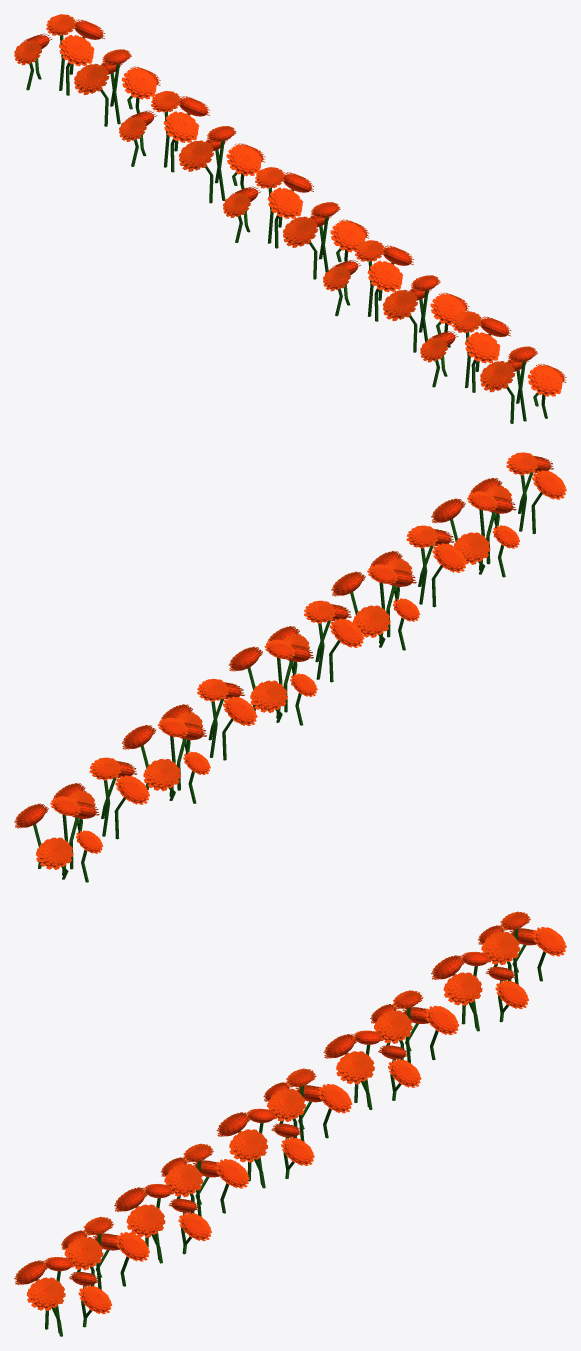
The model's file is florMontana.obj.
The picture shows the model from 3 angles, top to bottom: view 1: azimuth 30°, elevation 25°; view 2: azimuth 150°, elevation 25°; view 3: azimuth 330°, elevation 25°; orthographic projection. The views are drawn at different scales.
Parts seen in each view (by area): view 1: Plano.515, Plano.517, Plano.524, Plano.522, Plano.520, Plano.519, Plano.523, Plano.521, Plano.518, Plano.516; view 2: Plano.524, Plano.520, Plano.522, Plano.517, Plano.515, Plano.518, Plano.519, Plano.523, Plano.516, Plano.521; view 3: Plano.521, Plano.523, Plano.518, Plano.519, Plano.516, Plano.520, Plano.517, Plano.524, Plano.515, Plano.522.
Boxes of the visible parts, <box> form: Plano.515: <box>420,311,511,392</box>; Plano.517: <box>323,240,413,321</box>; Plano.524: <box>14,14,105,95</box>; Plano.522: <box>119,91,209,172</box>; Plano.520: <box>223,167,314,248</box>; Plano.519: <box>480,346,566,423</box>; Plano.523: <box>74,49,160,126</box>; Plano.521: <box>179,126,265,203</box>; Plano.518: <box>283,202,369,279</box>; Plano.516: <box>383,275,469,352</box>; Plano.524: <box>14,796,103,882</box>; Plano.520: <box>228,639,317,725</box>; Plano.522: <box>121,717,210,803</box>; Plano.517: <box>331,564,420,650</box>; Plano.515: <box>431,491,519,577</box>; Plano.518: <box>267,600,364,685</box>; Plano.519: <box>469,452,566,536</box>; Plano.523: <box>53,757,149,841</box>; Plano.516: <box>370,525,466,609</box>; Plano.521: <box>160,679,257,762</box>; Plano.521: <box>323,1030,421,1109</box>; Plano.523: <box>431,952,528,1031</box>; Plano.518: <box>216,1108,314,1188</box>; Plano.519: <box>14,1257,111,1336</box>; Plano.516: <box>114,1184,211,1263</box>; Plano.520: <box>263,1068,352,1141</box>; Plano.517: <box>161,1143,249,1216</box>; Plano.524: <box>478,911,566,984</box>; Plano.515: <box>61,1216,149,1289</box>; Plano.522: <box>370,990,459,1063</box>.
Size of the model in its own units: 0.2076 by 0.1559 by 1.95.
